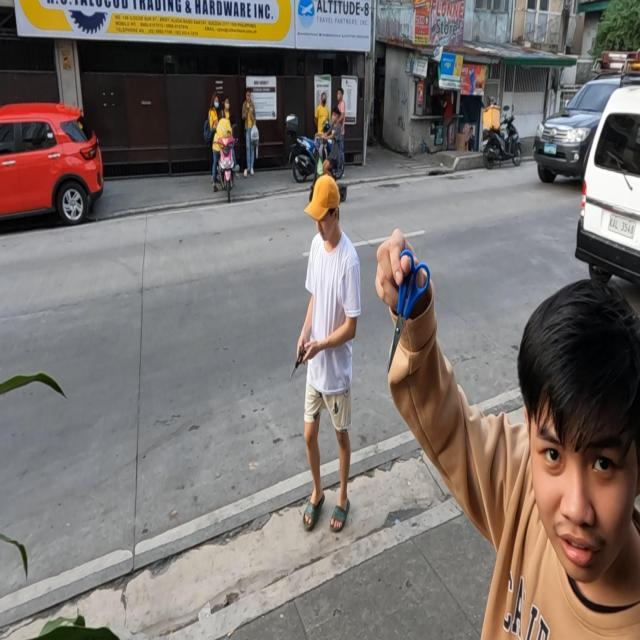scissor: (385, 247, 430, 374)
